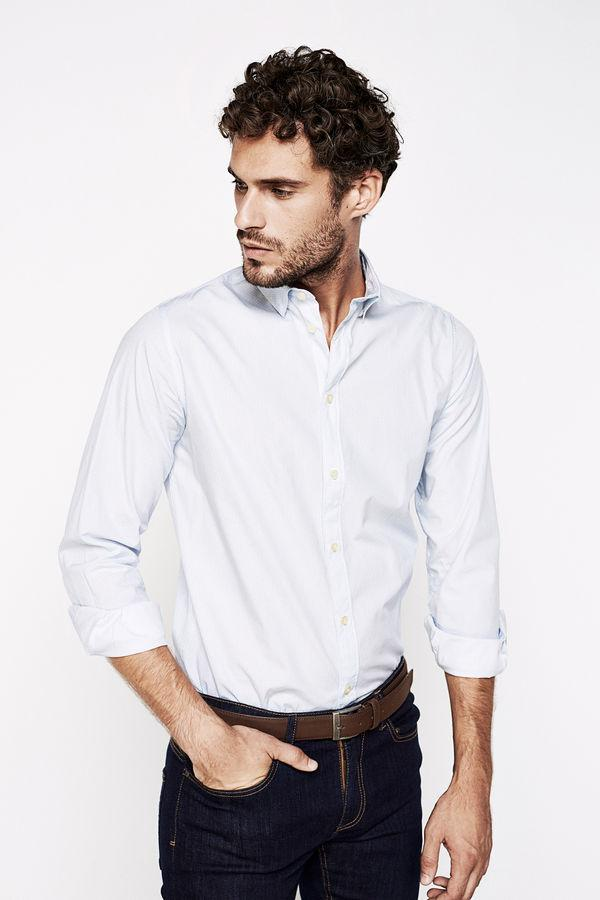teeshirt: (77, 271, 529, 692)
